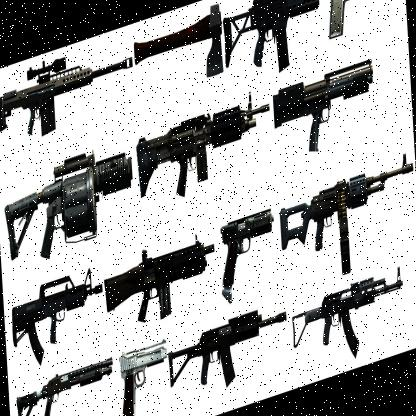rifle: (278, 149, 416, 285), (0, 25, 134, 160), (134, 86, 274, 214), (101, 209, 219, 346), (287, 258, 414, 382), (156, 300, 290, 410), (269, 52, 379, 170), (9, 258, 107, 376), (15, 347, 117, 416)
